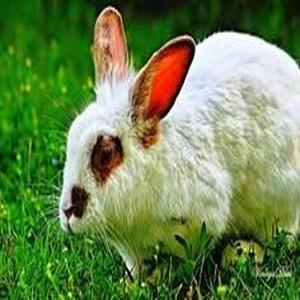rabbit: (58, 7, 300, 279)
